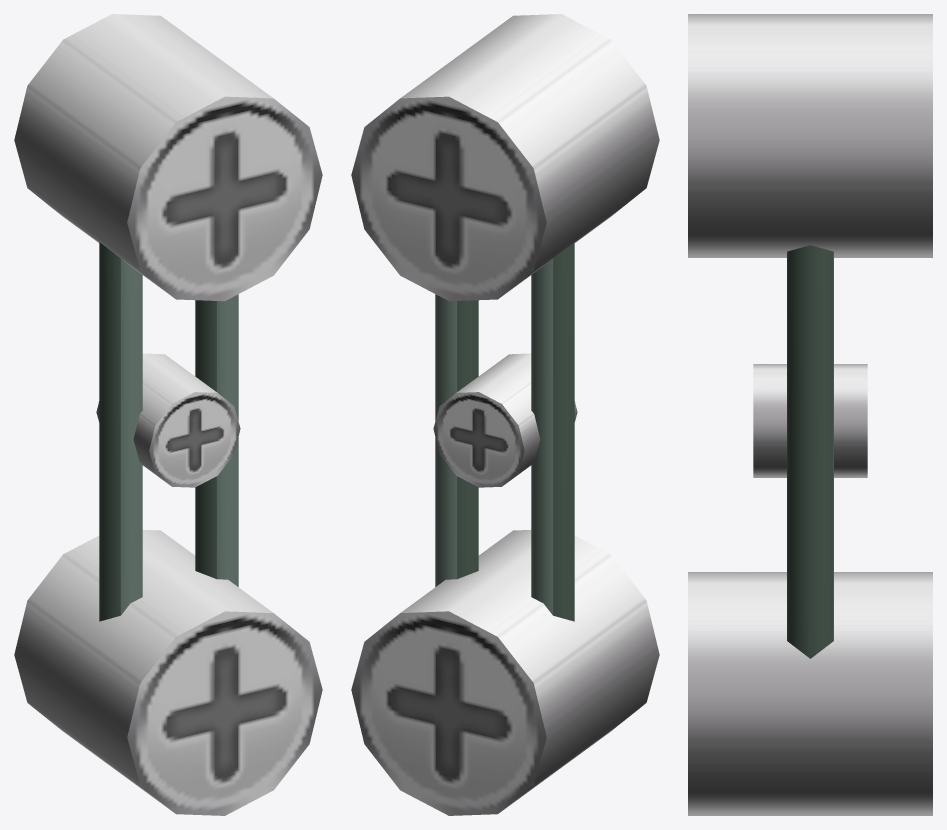
The model's file is Bottom11.fbx.
The picture shows the model from 3 angles, left to right: view 1: azimuth 30°, elevation 25°; view 2: azimuth 150°, elevation 25°; view 3: azimuth 270°, elevation 25°; orthographic projection. The views are drawn at different scales.
Visible parts, largest first — view 1: Bottom11; view 2: Bottom11; view 3: Bottom11.
Boxes of the visible parts, x1,y1,x2,y2 form: Bottom11: [14, 14, 322, 815]; Bottom11: [351, 14, 659, 815]; Bottom11: [688, 14, 932, 815].
Bounding box in the file's own units: 0.9796 × 3.44 × 0.9796.
1 material, 1 textured.
